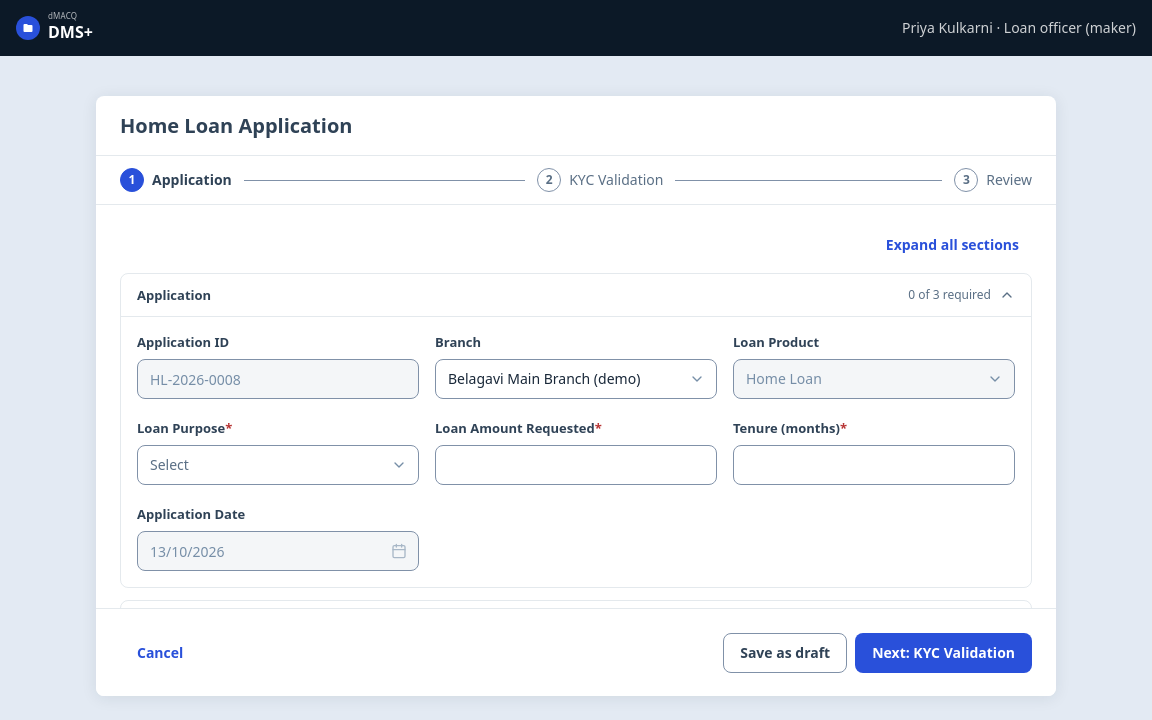
Test case: errors when the user leaves a field › shows nothing while typing, then the error in red under the field when leaving it
The image size is (1152, 720).
Click the button "Expand all sections": (952, 245) [873,229,1032,261]
(page scrolled)
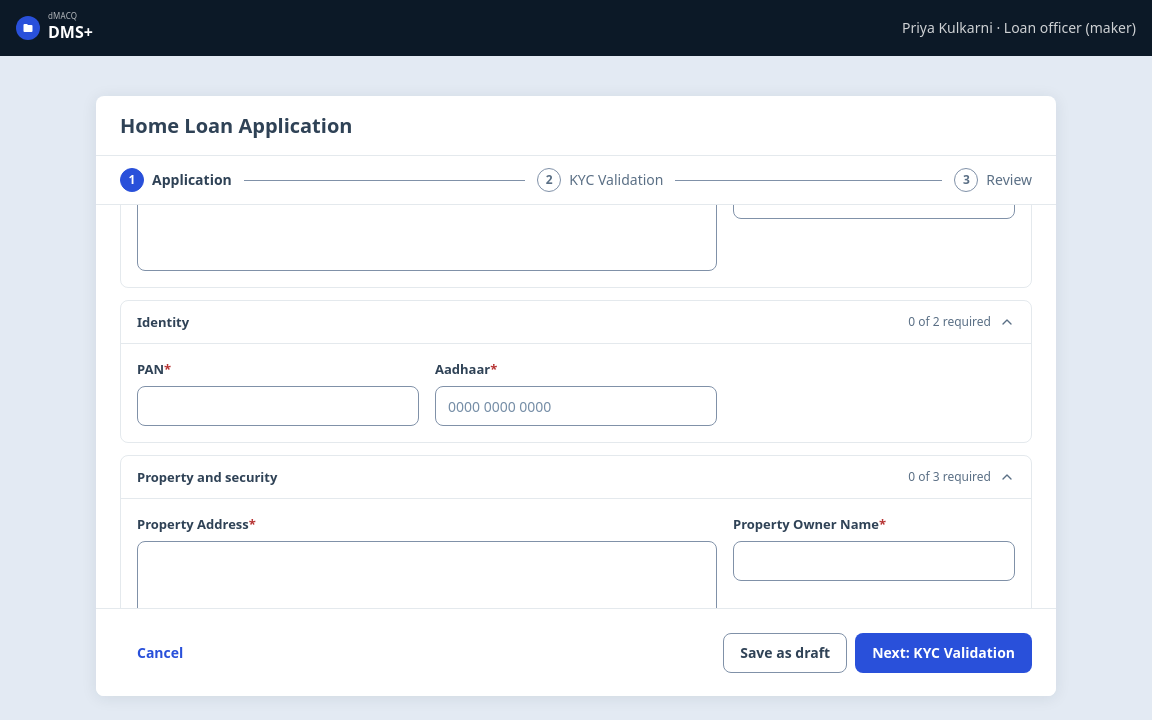
In the field labelled "PAN*": (278, 406) [137,386,419,426], type "abc"
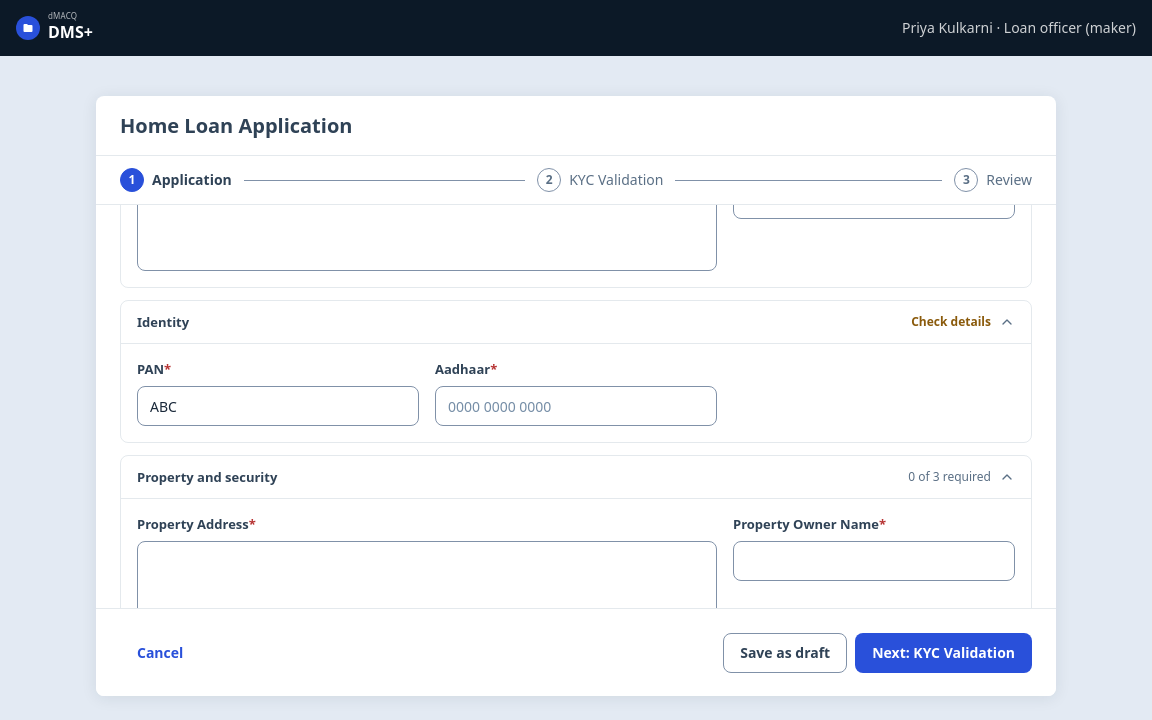
Leave the field labelled "PAN*", box [137,386,419,426]
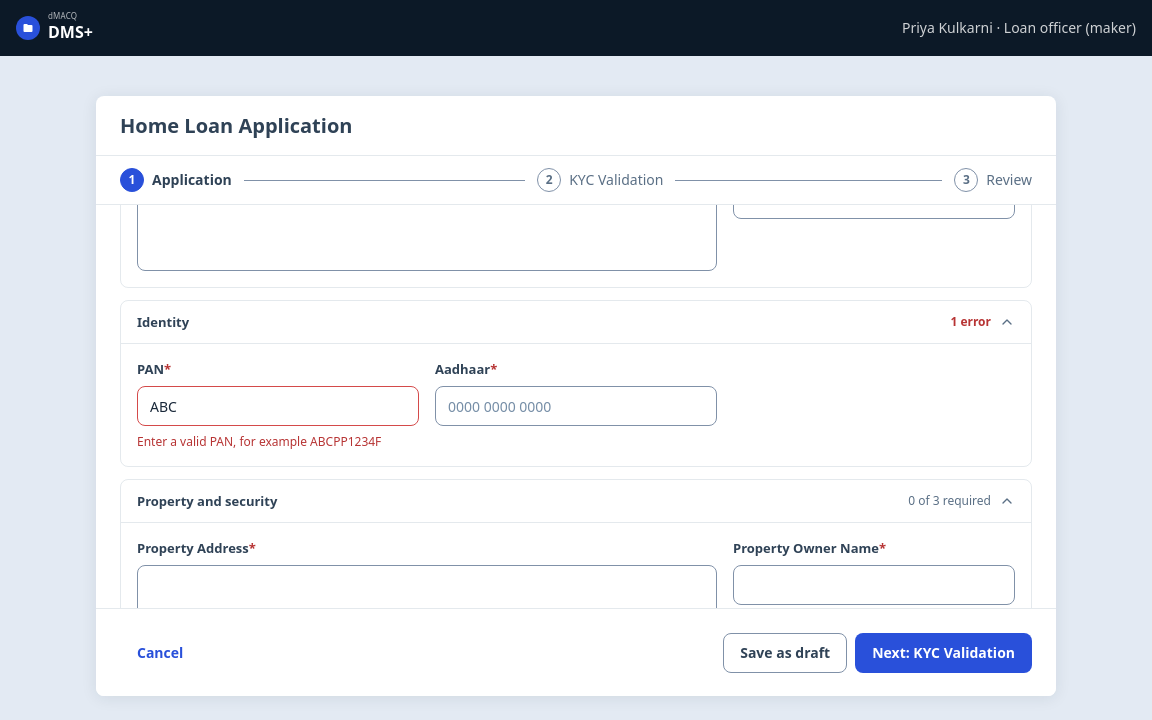
Now the message with id "field-pan-message" reads "Enter a valid PAN, for example ABCPP1234F", box [137,433,381,450]
